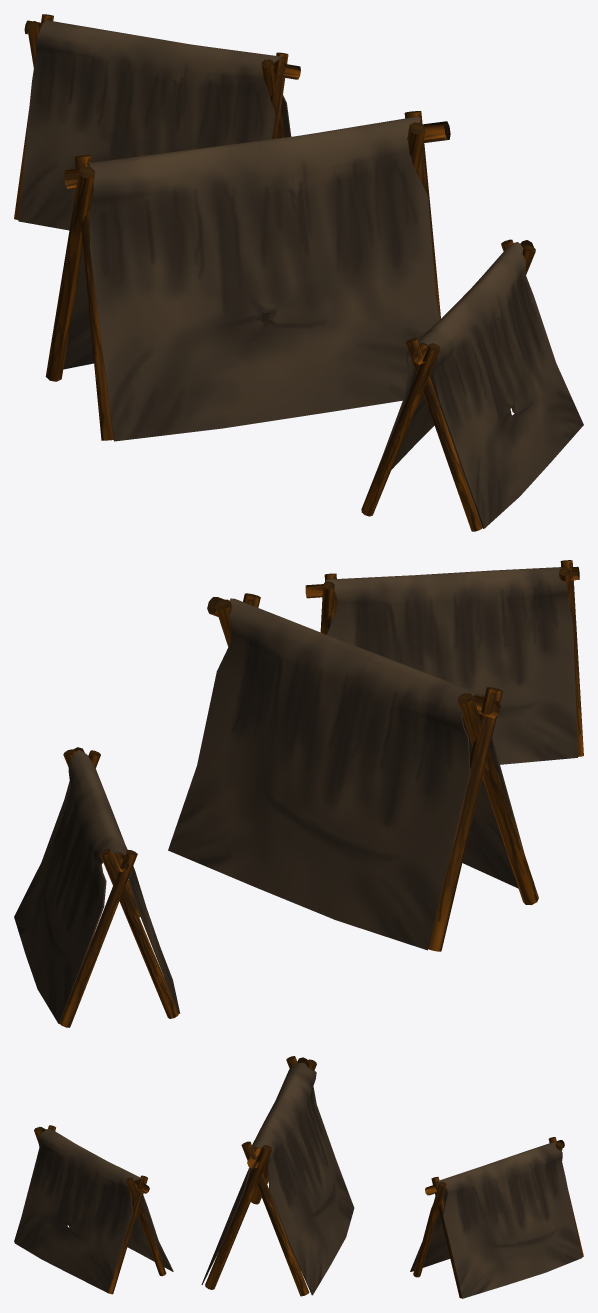
Rendered from Tents.FBX.
3 renders of one model, top to bottom at view 1: azimuth 30°, elevation 25°; view 2: azimuth 150°, elevation 25°; view 3: azimuth 270°, elevation 25°, orthographic. The views are drawn at different scales.
Visible parts, largest first — view 1: tent; view 2: tent; view 3: tent.
Part boxes in pixels (x1=…): tent: x1=14, y1=14, x2=583, y2=531; tent: x1=14, y1=560, x2=583, y2=1027; tent: x1=14, y1=1056, x2=583, y2=1298.
Bounding box in the file's own units: 765 × 1665 × 479.
